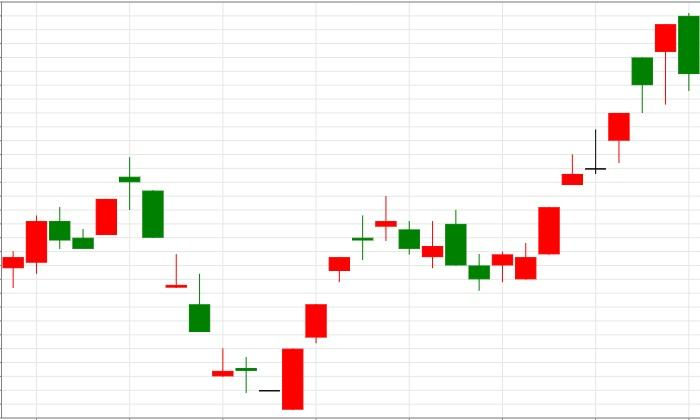three_white_soldiers_rise: (119, 156, 351, 411), (375, 154, 584, 291)
